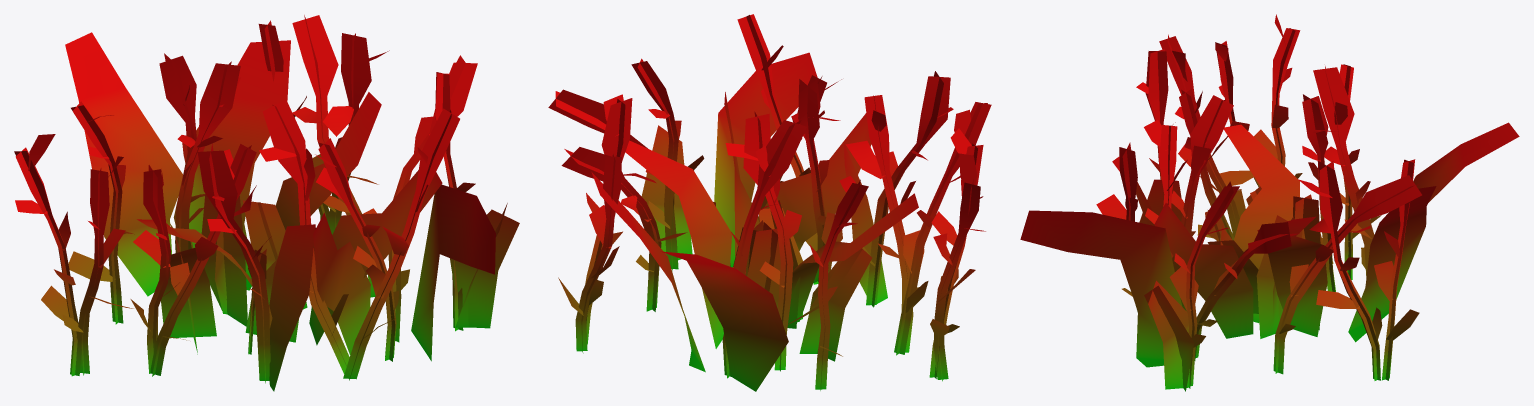
Rendered from Var5_LOD0.fbx.
3 renders of one model, left to right at view 1: azimuth 30°, elevation 25°; view 2: azimuth 150°, elevation 25°; view 3: azimuth 270°, elevation 25°, orthographic. The views are drawn at different scales.
Visible parts, largest first — view 1: _0d66_Var5_LOD0; view 2: _0d66_Var5_LOD0; view 3: _0d66_Var5_LOD0.
Boxes of the visible parts, box(x1,y1,x2,y2) form: _0d66_Var5_LOD0: box(14, 15, 519, 391); _0d66_Var5_LOD0: box(548, 14, 991, 391); _0d66_Var5_LOD0: box(1020, 14, 1519, 391).
Size of the model in its own units: 13.9 by 7.82 by 14.98.
